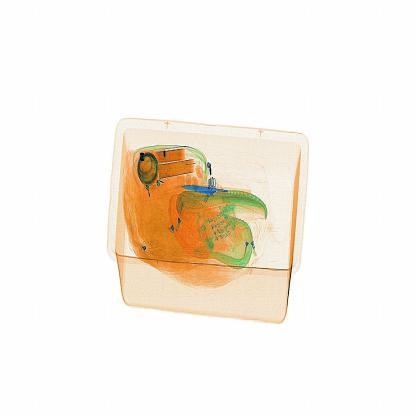wrench: (167, 179, 259, 203)
